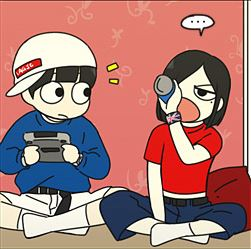hat: (5, 32, 96, 96)
